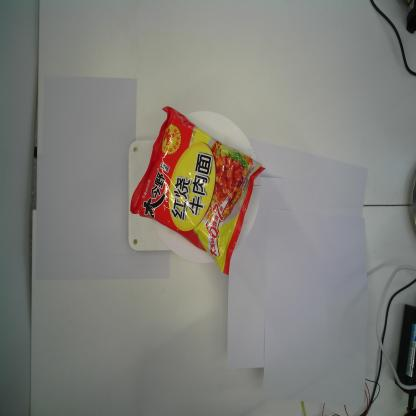Instant Noodles: (129, 105, 266, 277)
